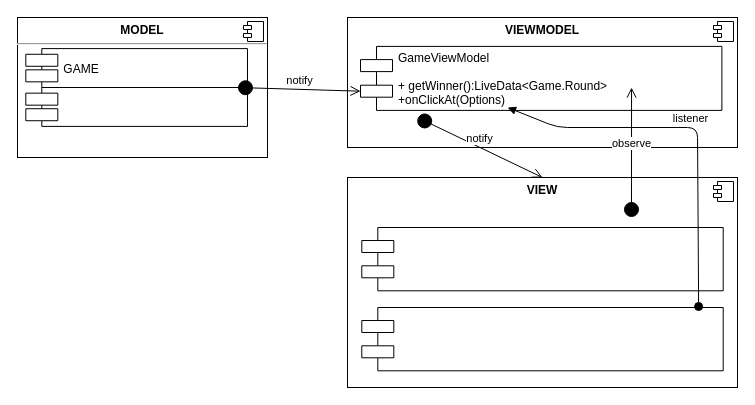
The diagram is 755 pixels wide and 405 high, and some of its shapes have lost their labels. The centre of each missing label's shape, as x and y in pixels:
"ROUND" belongs at pixel 136 106.
"View Components Data binding" belongs at pixel 542 338.
"View Components UI Controlling" belongs at pixel 542 258.
